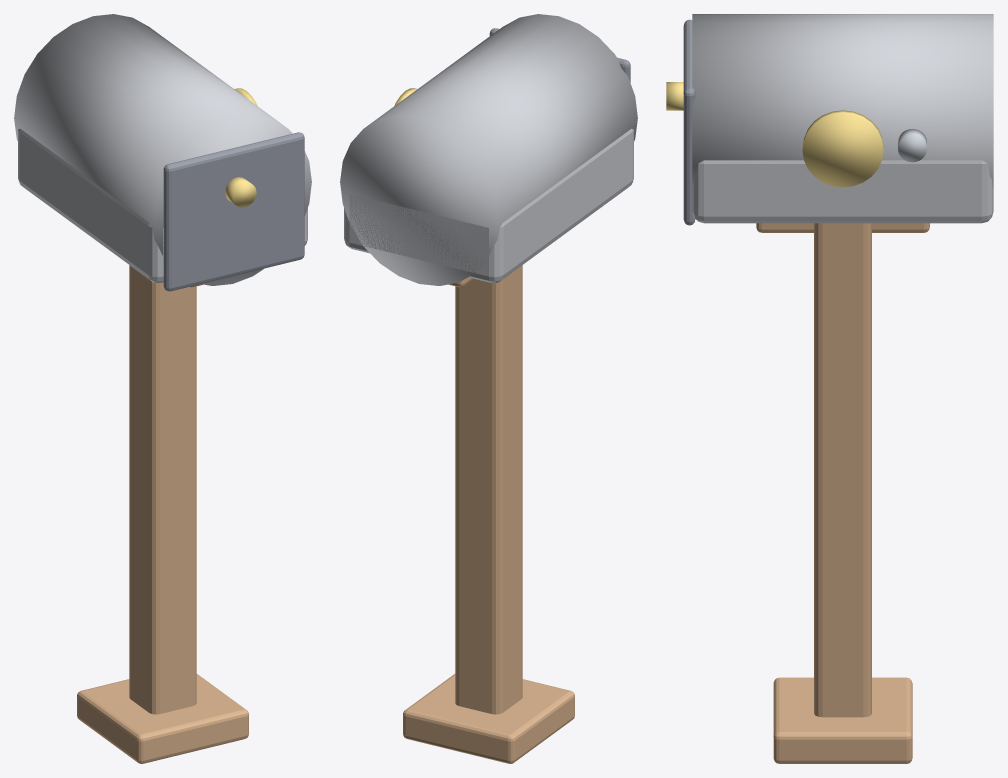
The model's file is mailbox.glb.
3 renders of one model, left to right at view 1: azimuth 30°, elevation 25°; view 2: azimuth 150°, elevation 25°; view 3: azimuth 270°, elevation 25°, orthographic. The views are drawn at different scales.
Visible parts, largest first — view 1: mailbox; view 2: mailbox; view 3: mailbox.
Part boxes in pixels (left/top/right/bottom): mailbox: left=14, top=14, right=311, bottom=763; mailbox: left=340, top=14, right=637, bottom=763; mailbox: left=666, top=14, right=993, bottom=763.
Size of the model in its own units: 0.365 by 1.36 by 0.565.
